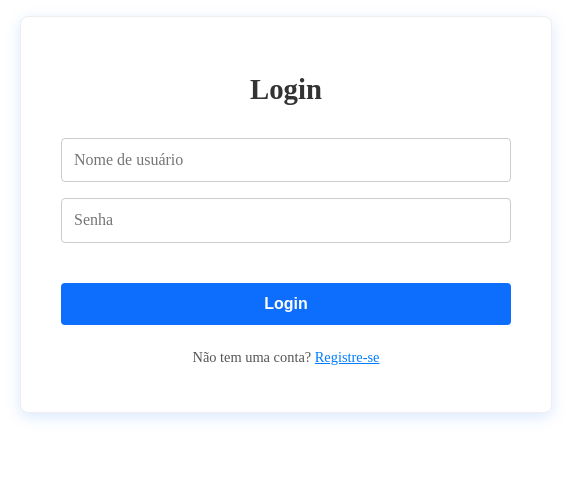
Test case: Página Login › deve exibir mensagem de erro genérica se a API falhar (ex: erro de rede)
Type "testuser" into the field with placeholder "Nome de usuário".
click(286, 160); type("testuser")  # box [61,138,511,182]
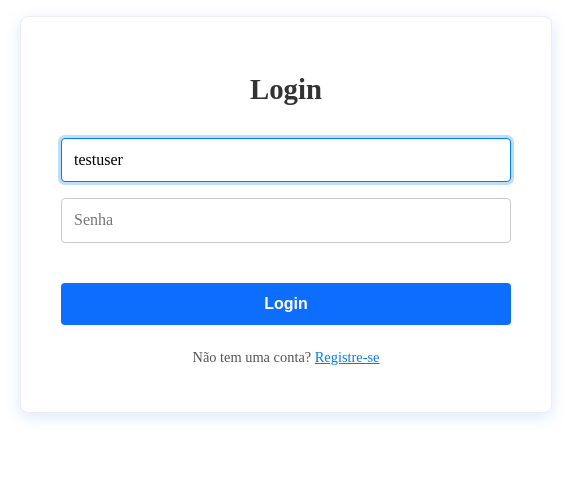
Type "password" into the password field with placeholder "Senha".
click(286, 220); type("password")  # box [61,198,511,243]
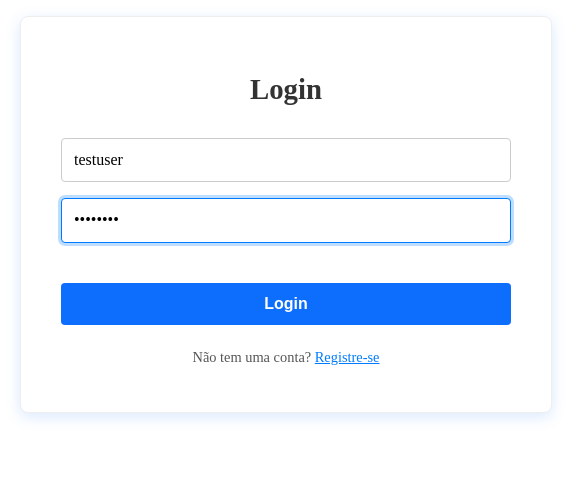
Click the button "Login".
click(286, 304)  # box [61,283,511,325]
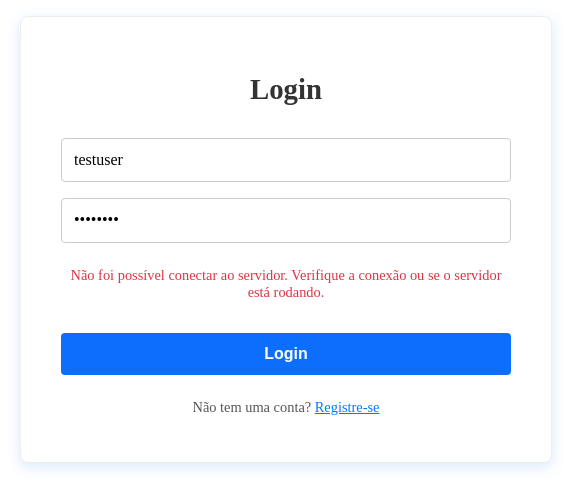
Expected: the text "Não foi possível conectar ao servidor" is shown, [70,267,501,300]
